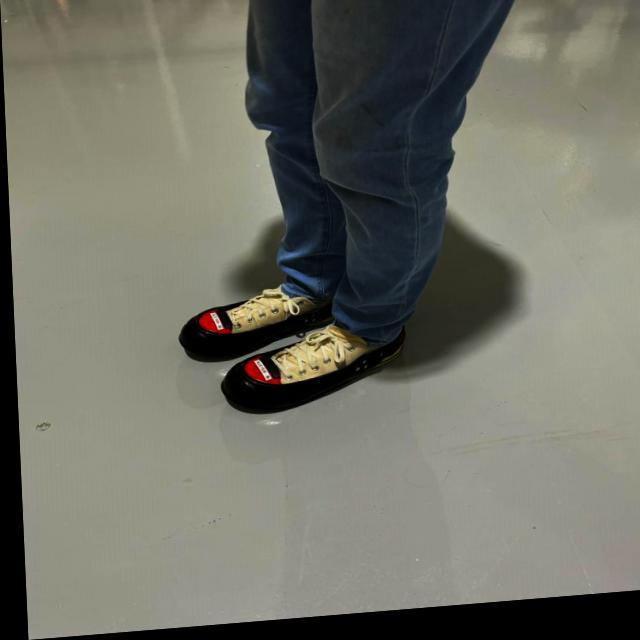shoes: (229, 320, 394, 418), (168, 283, 340, 356)
